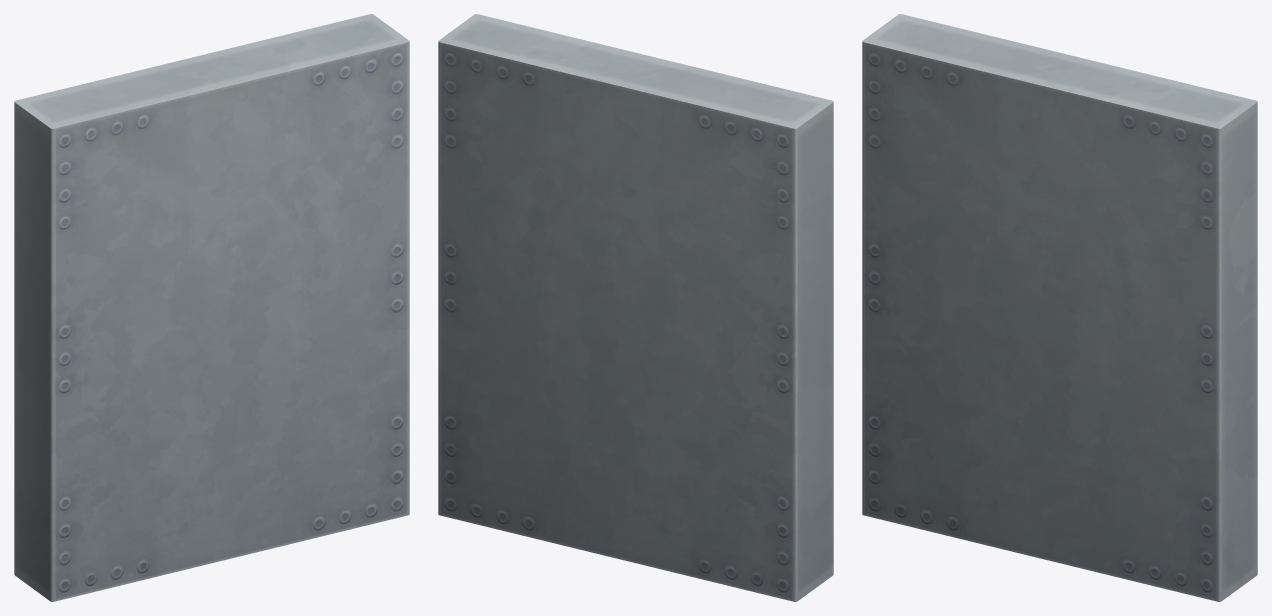
File: BankVaultWall01.FBX
3 renders of one model, left to right at view 1: azimuth 30°, elevation 25°; view 2: azimuth 150°, elevation 25°; view 3: azimuth 330°, elevation 25°, orthographic.
Visible parts, largest first — view 1: BankVaultWall01; view 2: BankVaultWall01; view 3: BankVaultWall01.
Part boxes in pixels (x1=…): BankVaultWall01: x1=14, y1=14, x2=409, y2=601; BankVaultWall01: x1=438, y1=14, x2=833, y2=601; BankVaultWall01: x1=862, y1=14, x2=1257, y2=601.
Size of what is drawn, in the model's own units: 2.7 by 3.4 by 0.5.
